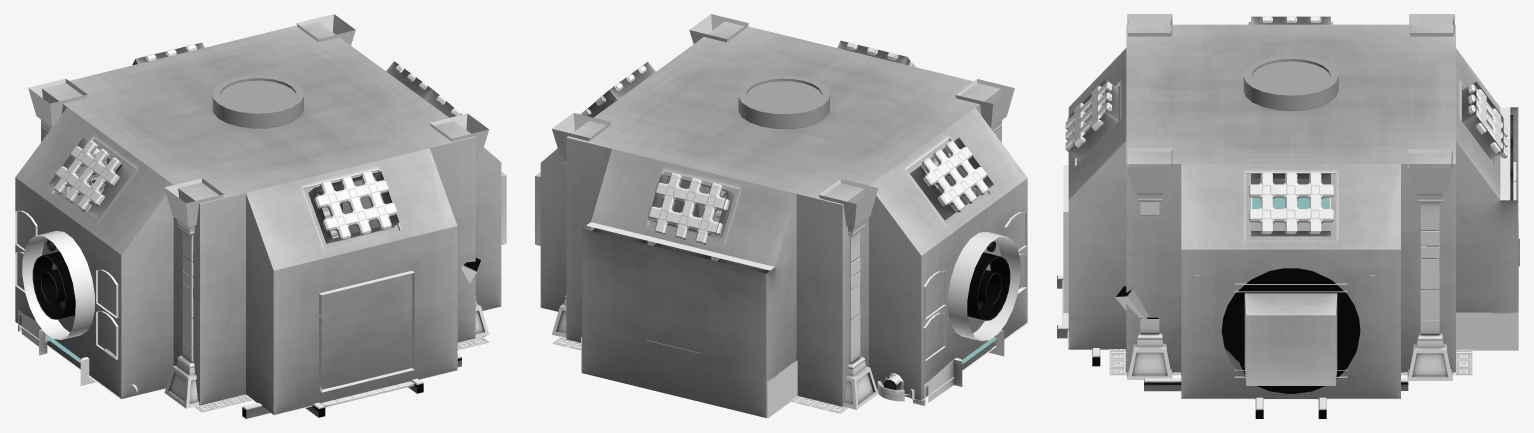
3 renders of one model, left to right at view 1: azimuth 30°, elevation 25°; view 2: azimuth 150°, elevation 25°; view 3: azimuth 270°, elevation 25°, orthographic. The views are drawn at different scales.
Parts seen in each view (by area): view 1: Roof, Walls, Pillars, OuterDisc, Elevator, Window02, Window01, PicturePuzzle_border, MidDisc, WaterBasin, Floor01, Curbs1 (+1 smaller); view 2: Roof, Walls, Pillars, OuterDisc, Elevator, Window04, Window01, WaterBasin, pCube3, AltarStairs, MidDisc, Floor01; view 3: Roof, Walls, Pillars, Backplate, Elevator, Window03, AltarStairs, Window02, Curbs1, Window04, Floor01, pCube3 (+4 smaller).
Boxes of the visible parts, x1,y1,x2,y2 form: Roof: [15, 22, 500, 270]; Walls: [15, 162, 506, 414]; Pillars: [28, 14, 489, 408]; OuterDisc: [22, 230, 94, 339]; Elevator: [212, 75, 303, 128]; Window02: [314, 171, 397, 240]; Window01: [54, 140, 120, 211]; PicturePuzzle_border: [319, 270, 414, 392]; MidDisc: [33, 256, 65, 319]; WaterBasin: [18, 310, 95, 385]; Floor01: [89, 336, 490, 412]; Curbs1: [242, 335, 486, 418]; Roof: [541, 21, 1027, 266]; Walls: [535, 148, 1027, 417]; Pillars: [552, 14, 1014, 409]; OuterDisc: [948, 231, 1020, 341]; Elevator: [738, 75, 829, 129]; Window04: [648, 173, 729, 244]; Window01: [921, 141, 988, 212]; WaterBasin: [877, 330, 1004, 405]; pCube3: [586, 222, 774, 273]; AltarStairs: [581, 337, 797, 418]; MidDisc: [977, 257, 1009, 320]; Floor01: [551, 322, 1027, 414]; Roof: [1067, 16, 1503, 249]; Walls: [1068, 107, 1518, 398]; Pillars: [1115, 14, 1454, 380]; Backplate: [1221, 268, 1360, 393]; Elevator: [1243, 55, 1338, 111]; Window03: [1248, 172, 1333, 234]; AltarStairs: [1456, 219, 1518, 350]; Window02: [1065, 82, 1111, 150]; Curbs1: [1057, 275, 1408, 418]; Window04: [1468, 84, 1508, 158]; Floor01: [1109, 349, 1472, 398]; pCube3: [1500, 107, 1513, 200].
Bounding box in the file's own units: 1643 × 822 × 1458.
